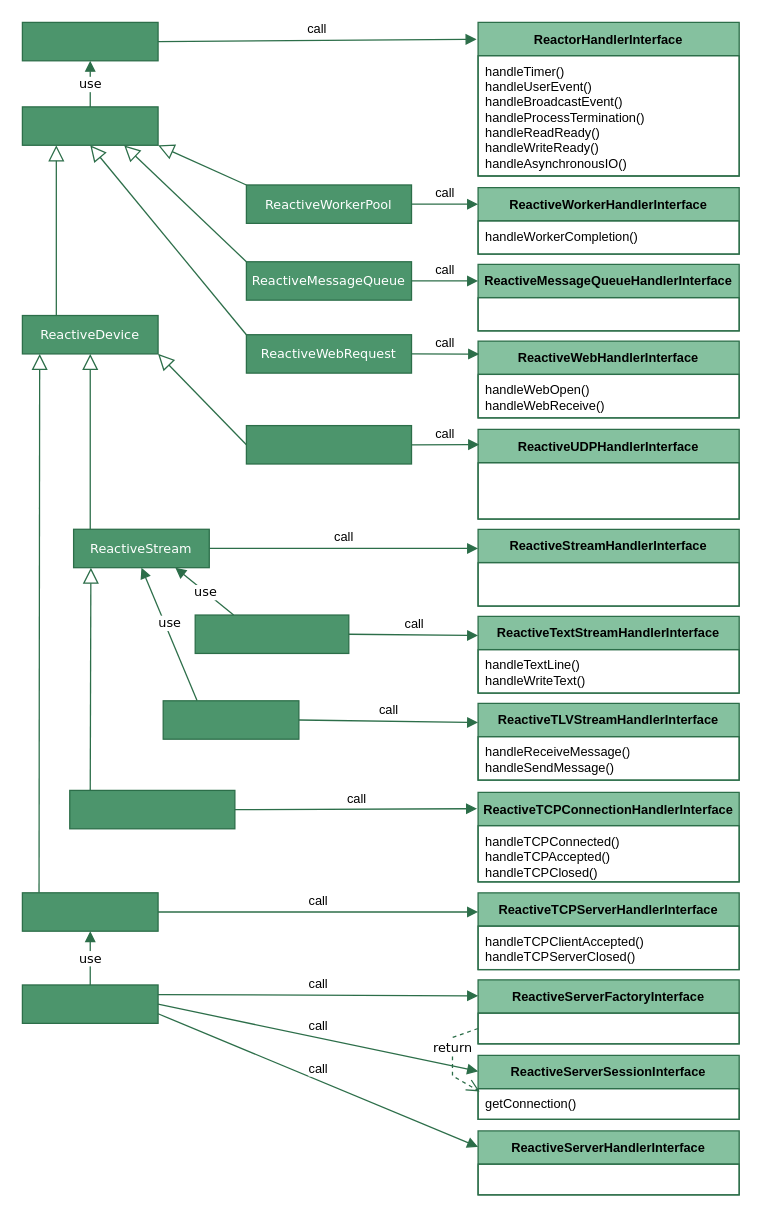
This 762x1221 diagram has some shape labels left out. Each missing label, with the centre of its shape:
"handleDequeuedMessage()" belongs at (x=608, y=313).
"handleReadStream () handleWriteStream()" belongs at (x=608, y=583).
"handleServerExited()" belongs at (x=608, y=1179).
"handleUDPReceive () handleUDPSend() handleUDPClosed ()" belongs at (x=608, y=490).
"newClientSession()" belongs at (x=608, y=1028).
"ReactiveBase" belongs at (x=89, y=125).
"ReactiveServer" belongs at (x=89, y=1003).
"ReactiveTCPConnection" belongs at (x=151, y=809).
"ReactiveTCPServer" belongs at (x=89, y=911).
"ReactiveTextStream" belongs at (x=271, y=633).
"ReactiveTLVStream" belongs at (x=230, y=719).
"ReactiveUDPSocket" belongs at (x=328, y=444).
"Reactor" belongs at (x=89, y=41).
